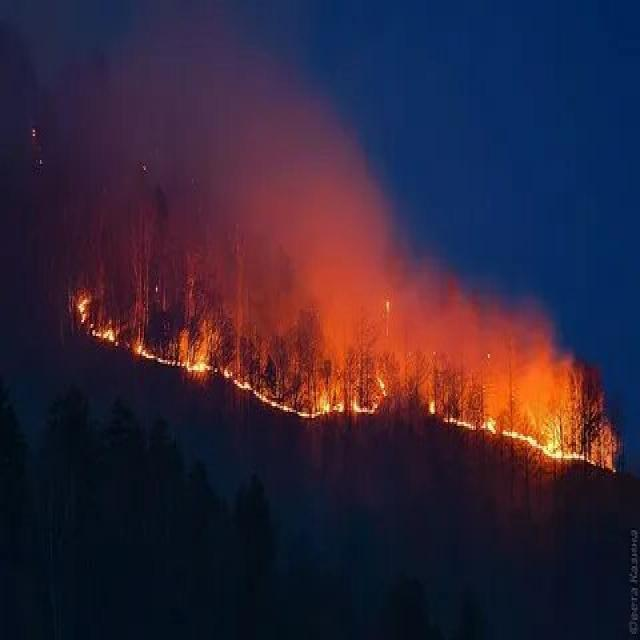Fire: (76, 306, 398, 448), (433, 370, 628, 481)
Smoke: (10, 0, 492, 337)
